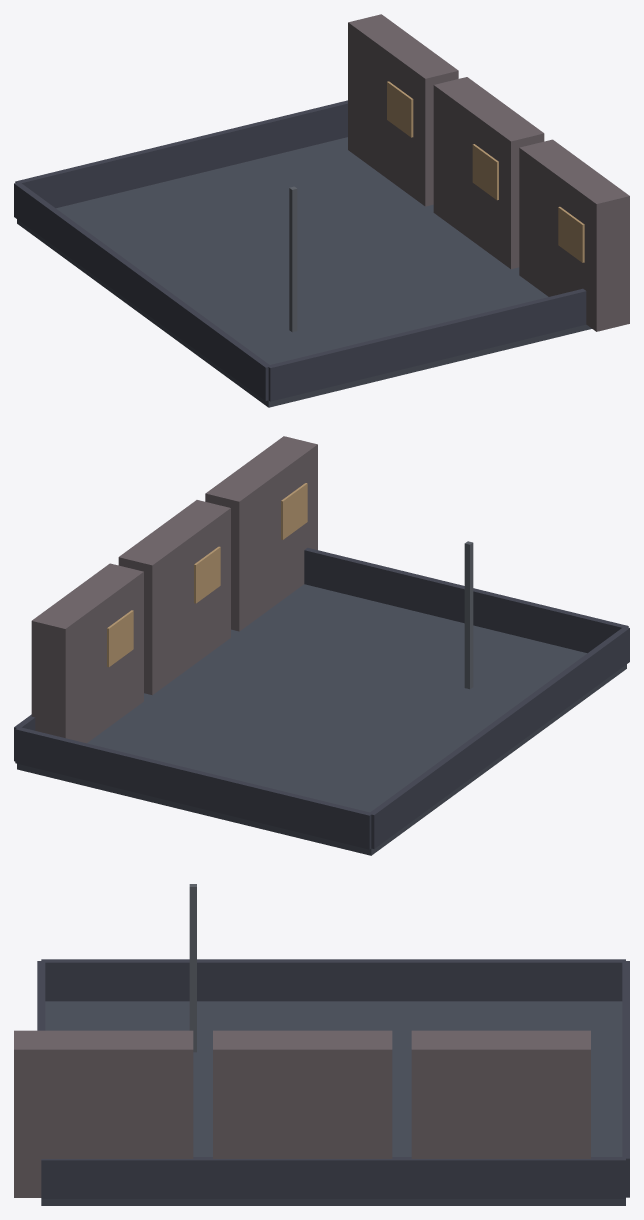
File: calleLateral.obj
3 views of the same model, one above another, from view 1: azimuth 30°, elevation 25°; view 2: azimuth 150°, elevation 25°; view 3: azimuth 270°, elevation 25° (orthographic). The views are drawn at different scales.
Visible parts, largest first — view 1: calleLateral_c2_9, calleLateral_c2_18, calleLateral_c2_16, calleLateral_c2_14, calleLateral_c2_13, calleLateral_c2_11, calleLateral_c2_10, calleLateral_c2_20, calleLateral_c2_17, calleLateral_c2_19, calleLateral_c2_15; view 2: calleLateral_c2_9, calleLateral_c2_14, calleLateral_c2_11, calleLateral_c2_16, calleLateral_c2_18, calleLateral_c2_13, calleLateral_c2_10, calleLateral_c2_20, calleLateral_c2_17, calleLateral_c2_15, calleLateral_c2_19; view 3: calleLateral_c2_9, calleLateral_c2_10, calleLateral_c2_18, calleLateral_c2_12, calleLateral_c2_14, calleLateral_c2_16, calleLateral_c2_11, calleLateral_c2_20, calleLateral_c2_13.
Part boxes in pixels (x1,y1,x2,y2): calleLateral_c2_9: (17, 137, 591, 407); calleLateral_c2_18: (519, 139, 629, 331); calleLateral_c2_16: (433, 77, 544, 269); calleLateral_c2_14: (348, 14, 458, 206); calleLateral_c2_13: (268, 288, 586, 401); calleLateral_c2_11: (15, 100, 347, 208); calleLateral_c2_10: (14, 182, 270, 400); calleLateral_c2_20: (289, 186, 297, 332); calleLateral_c2_17: (472, 144, 498, 200); calleLateral_c2_19: (558, 206, 584, 262); calleLateral_c2_15: (387, 81, 413, 137); calleLateral_c2_9: (17, 584, 626, 855); calleLateral_c2_14: (31, 563, 143, 743); calleLateral_c2_11: (15, 727, 372, 849); calleLateral_c2_16: (118, 500, 230, 695); calleLateral_c2_18: (205, 436, 317, 631); calleLateral_c2_13: (304, 547, 628, 653); calleLateral_c2_10: (368, 627, 629, 848); calleLateral_c2_20: (464, 541, 473, 689); calleLateral_c2_17: (194, 546, 220, 603); calleLateral_c2_15: (107, 610, 133, 667); calleLateral_c2_19: (281, 483, 307, 539); calleLateral_c2_9: (41, 1001, 625, 1205); calleLateral_c2_10: (41, 959, 625, 1001); calleLateral_c2_18: (14, 1030, 193, 1197); calleLateral_c2_12: (41, 1157, 625, 1198); calleLateral_c2_14: (411, 1030, 590, 1158); calleLateral_c2_16: (213, 1030, 392, 1158); calleLateral_c2_11: (622, 961, 629, 1197); calleLateral_c2_20: (189, 884, 196, 1052); calleLateral_c2_13: (37, 961, 45, 1030).
Bounding box in the file's own units: 12.2 × 4.92 × 15.8.
